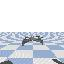drone: (22, 36, 43, 46)
